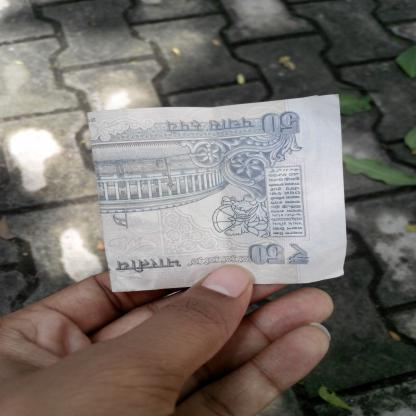Old50Back: (87, 93, 347, 293)
